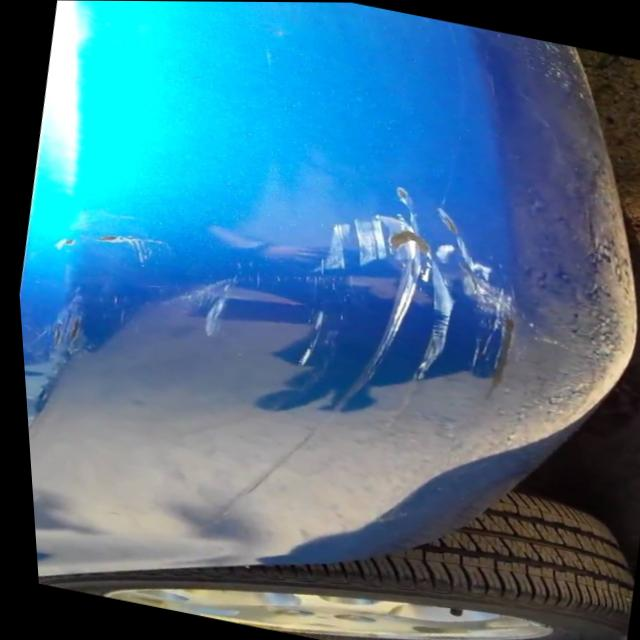Scratch: (307, 189, 511, 384), (189, 270, 242, 336), (31, 302, 89, 362), (45, 231, 169, 255)
